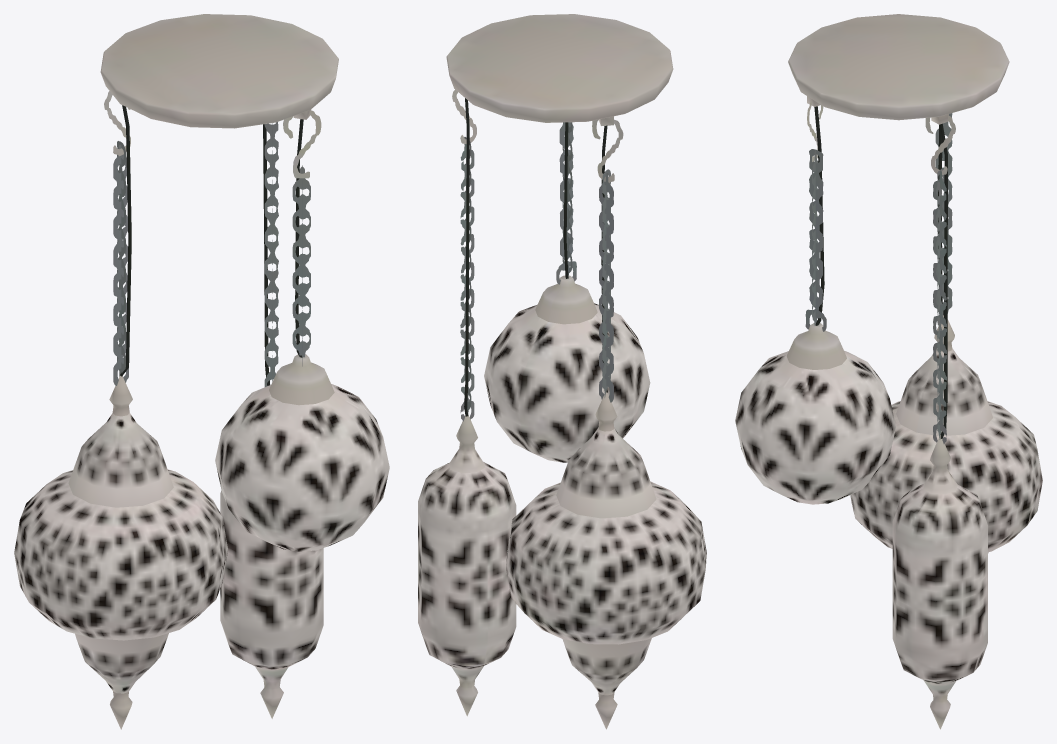
3 views of the same model, side by side, from view 1: azimuth 30°, elevation 25°; view 2: azimuth 150°, elevation 25°; view 3: azimuth 270°, elevation 25° (orthographic). The views are drawn at different scales.
Bounding box in the file's own units: 8.52 × 19.68 × 8.63.
1 material, 1 textured.
